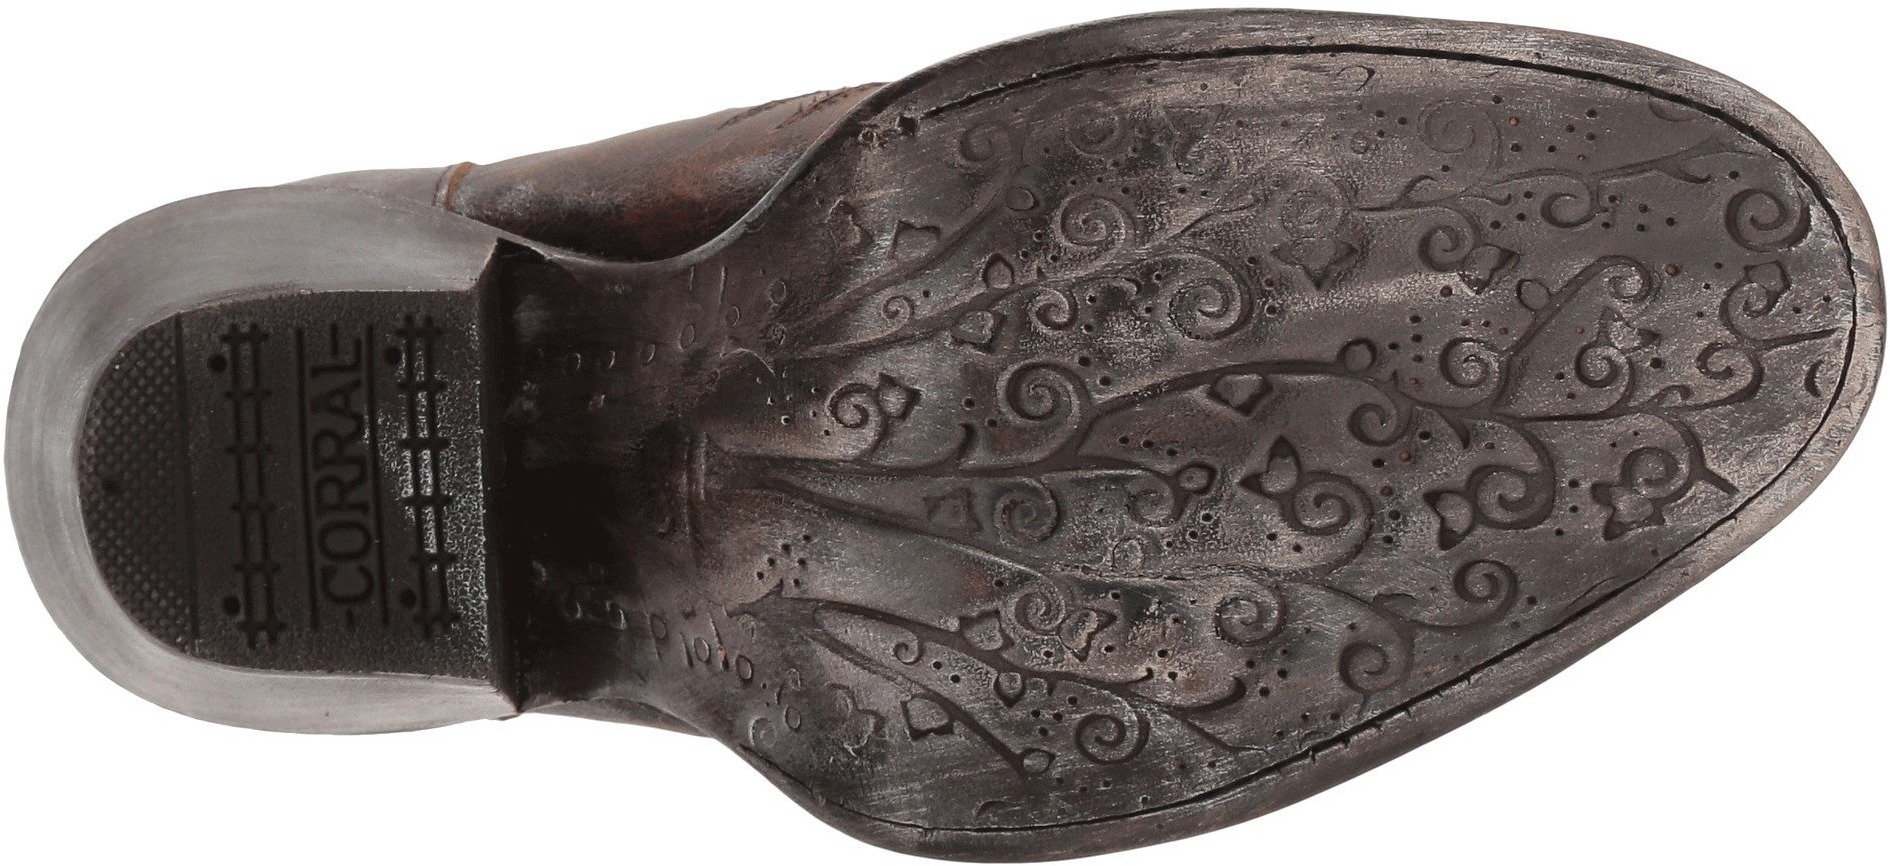other: (850, 146, 1436, 681), (1360, 127, 1741, 490)
text: (289, 467, 397, 580), (278, 362, 387, 451)
